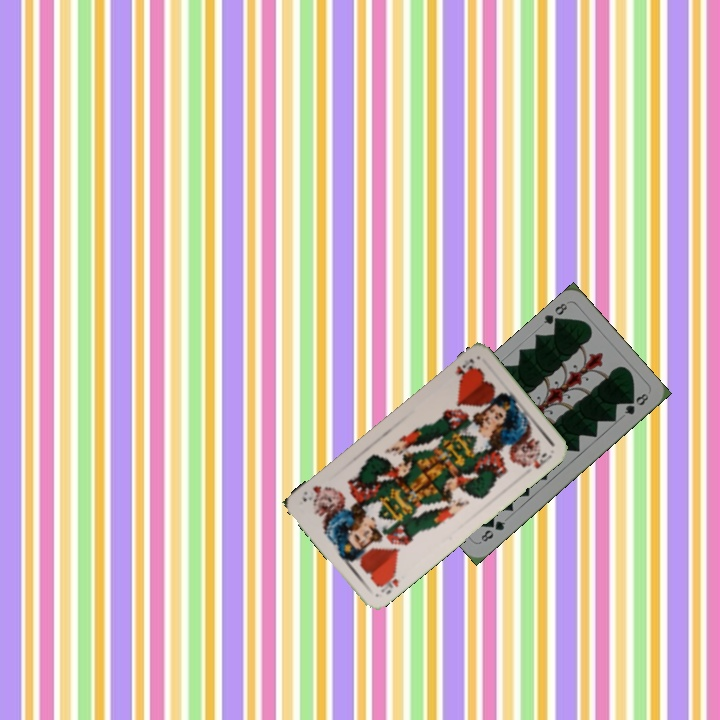G8: (539, 299, 570, 329), (476, 516, 508, 545)
HO: (373, 567, 401, 597), (451, 354, 478, 384)
